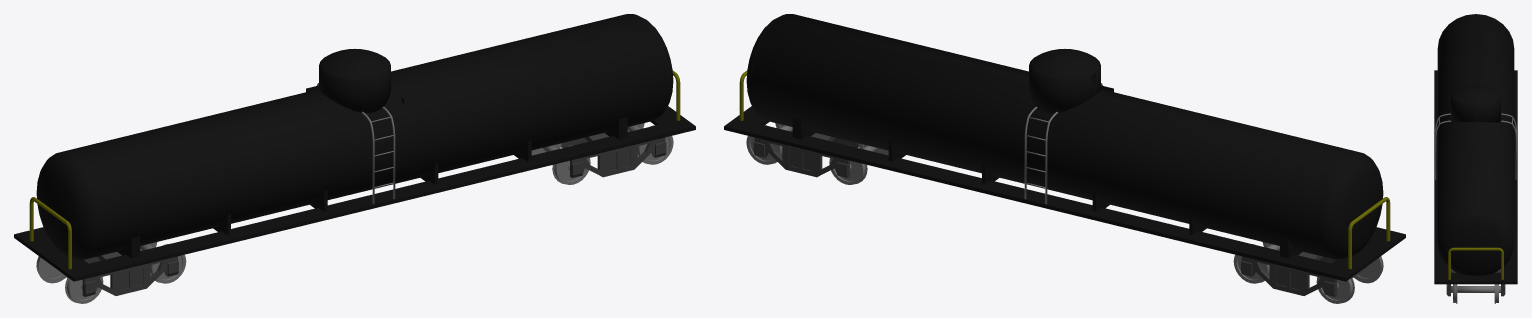
The model's file is tank_car.obj.
3 renders of one model, left to right at view 1: azimuth 30°, elevation 25°; view 2: azimuth 150°, elevation 25°; view 3: azimuth 270°, elevation 25°, orthographic. The views are drawn at different scales.
Parts seen in each view (by area): view 1: SHELL.001_ID11.004, FRAME_ID18.001, SHELL_ID3.006, BOGEY_REAR_ID181.001, BOGEY_FRONT_ID284.003, SketchUp_ID628.001; view 2: SHELL.001_ID11.004, FRAME_ID18.001, SHELL_ID3.006, BOGEY_REAR_ID181.001, BOGEY_FRONT_ID284.003, SketchUp_ID628.001; view 3: SHELL.001_ID11.004, FRAME_ID18.001, SHELL_ID3.006, SketchUp.001_ID636.001, BOGEY_REAR_WHEEL_1_ID566.003, BOGEY_REAR_ID181.001, group_3_ID91.001, group_3.002_ID140.001, BOGEY_REAR_WHEEL_1.004_ID590.004, BOGEY_REAR_WHEEL_1.002_ID578.003.
Part boxes in pixels (x1,y1,x2,y2): SHELL.001_ID11.004: (36,14,673,259); FRAME_ID18.001: (14,106,695,281); SHELL_ID3.006: (319,49,390,113); BOGEY_REAR_ID181.001: (561,133,666,177); BOGEY_FRONT_ID284.003: (82,252,178,296); SketchUp_ID628.001: (29,197,71,269); SHELL.001_ID11.004: (746,14,1383,259); FRAME_ID18.001: (724,106,1405,281); SHELL_ID3.006: (1029,49,1100,113); BOGEY_REAR_ID181.001: (753,133,858,177); BOGEY_FRONT_ID284.003: (1241,252,1337,296); SketchUp_ID628.001: (1348,197,1390,269); SHELL.001_ID11.004: (1437,14,1514,275); FRAME_ID18.001: (1434,70,1517,284); SHELL_ID3.006: (1451,84,1500,122); SketchUp.001_ID636.001: (1448,247,1503,279); BOGEY_REAR_WHEEL_1_ID566.003: (1451,286,1500,292); BOGEY_REAR_ID181.001: (1446,269,1505,296); group_3_ID91.001: (1501,120,1516,179); group_3.002_ID140.001: (1435,120,1450,179); BOGEY_REAR_WHEEL_1.004_ID590.004: (1495,284,1498,302); BOGEY_REAR_WHEEL_1.002_ID578.003: (1453,284,1456,302).
Size of the model in its own units: 18.29 by 4.74 by 3.05.
